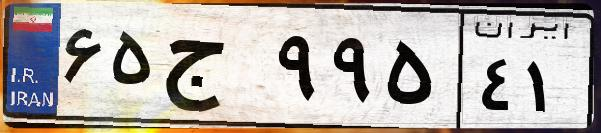1: (525, 38, 570, 115)
4: (475, 38, 525, 113)
5: (385, 28, 445, 110), (110, 28, 158, 98)
6: (57, 26, 110, 100)
9: (270, 28, 330, 110), (330, 28, 385, 110)
ج: (158, 20, 270, 120)
